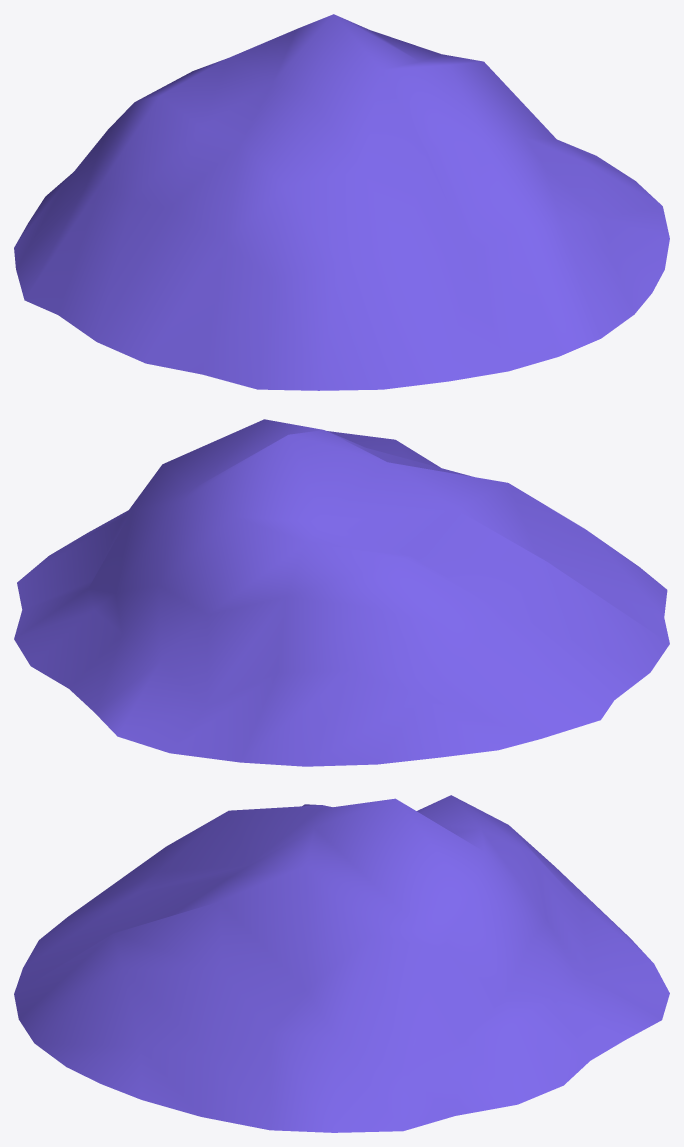
Rendered from Food_BarleyPile.fbx.
3 renders of one model, top to bottom at view 1: azimuth 30°, elevation 25°; view 2: azimuth 150°, elevation 25°; view 3: azimuth 270°, elevation 25°, orthographic. The views are drawn at different scales.
Parts seen in each view (by area): view 1: BraleyPile; view 2: BraleyPile; view 3: BraleyPile.
Part boxes in pixels (x1,y1,x2,y2): BraleyPile: (14, 14, 669, 390); BraleyPile: (14, 419, 669, 766); BraleyPile: (14, 795, 669, 1132).
Bounding box in the file's own units: 8.71 × 3.01 × 8.71.
